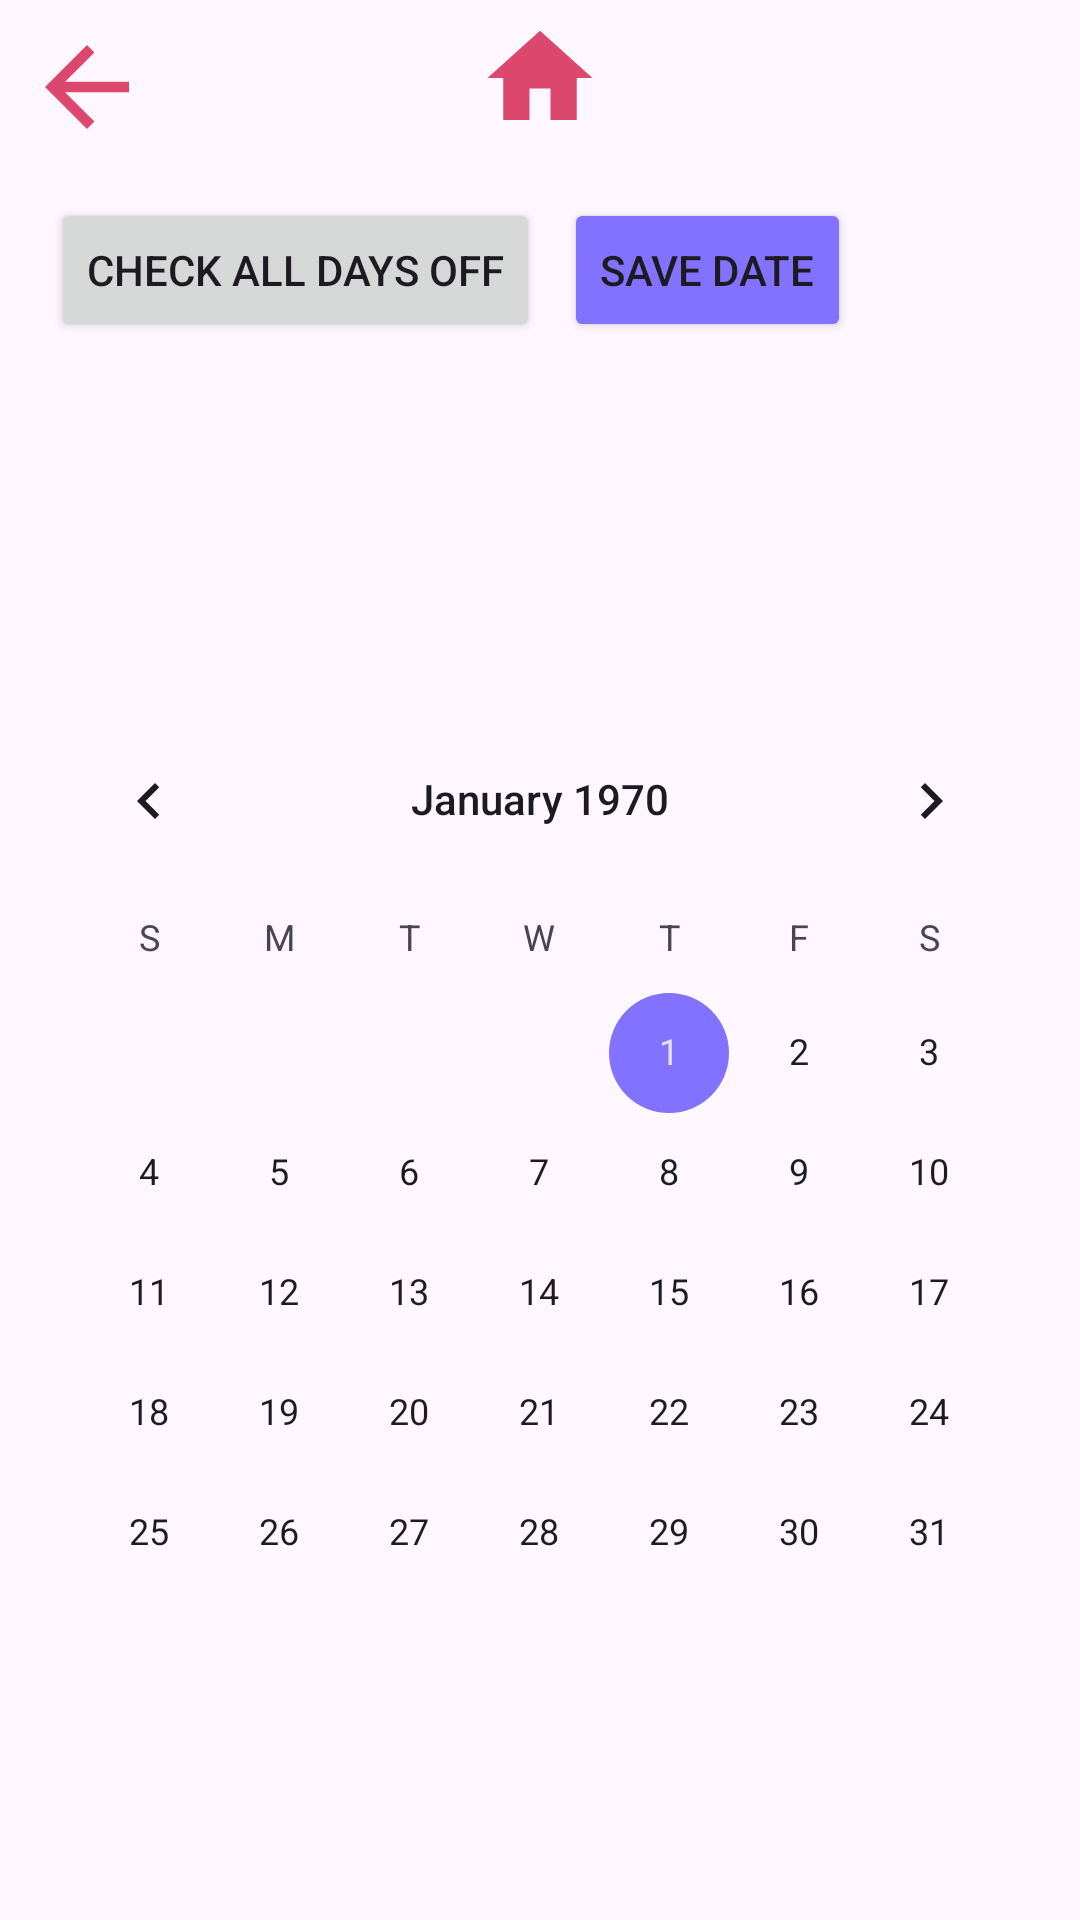

Screen size 1080×1920. Icon name, then its center in pixels as [x,y]:
backarrow: [87,87]
home: [540,75]
